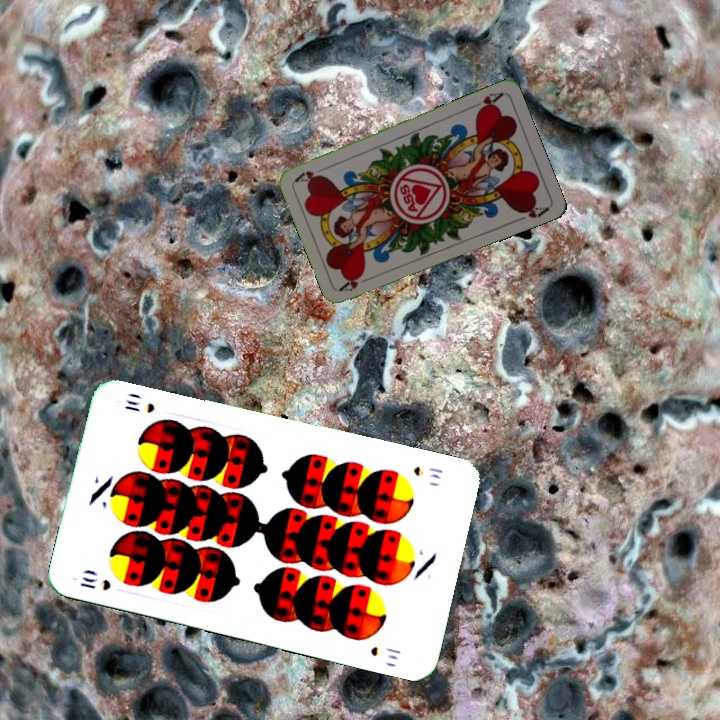HA: (466, 88, 505, 115), (336, 270, 375, 294)
S10: (76, 572, 114, 593), (409, 462, 446, 482)
